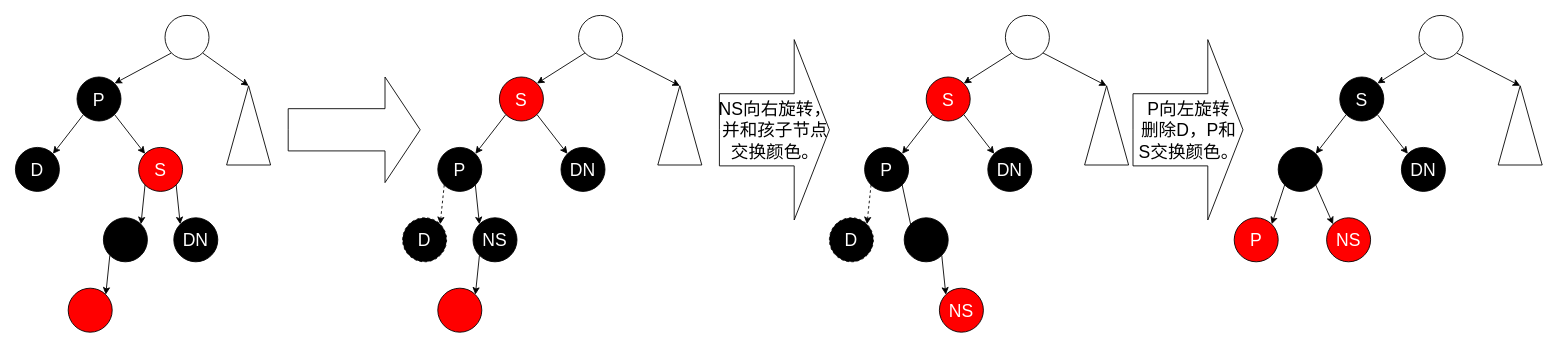
The diagram is 1558 pixels wide and 348 high, and some of its shapes have lost their labels. The centre of each missing label's shape, as x and y in pixels:
CN: (x=125, y=239)
P向左旋转， CN设置为NS: (x=353, y=129)
